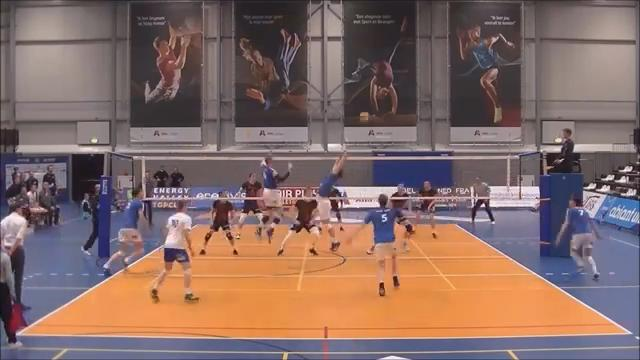alzata: (313, 146, 348, 257)
